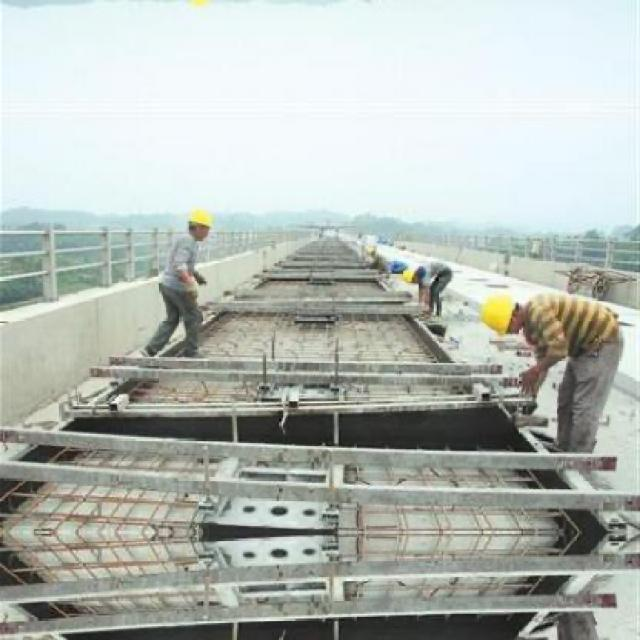helmet: (477, 286, 521, 340), (184, 202, 216, 238), (183, 0, 216, 12), (402, 264, 418, 284)
